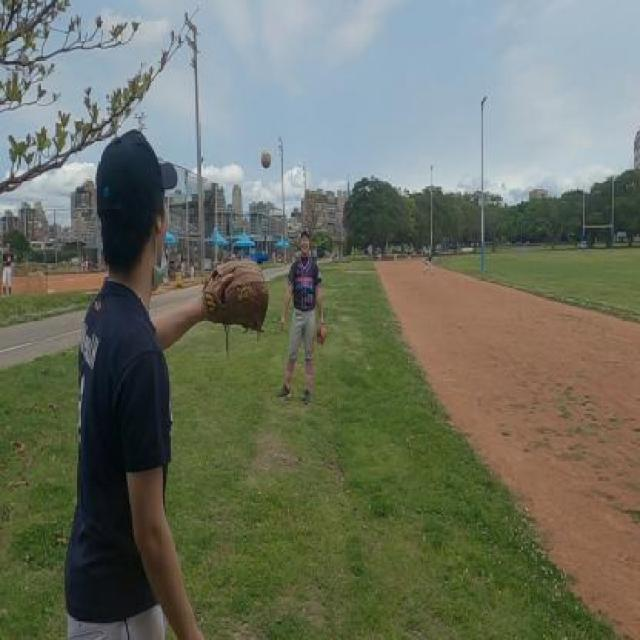baseball: (260, 150, 272, 168)
